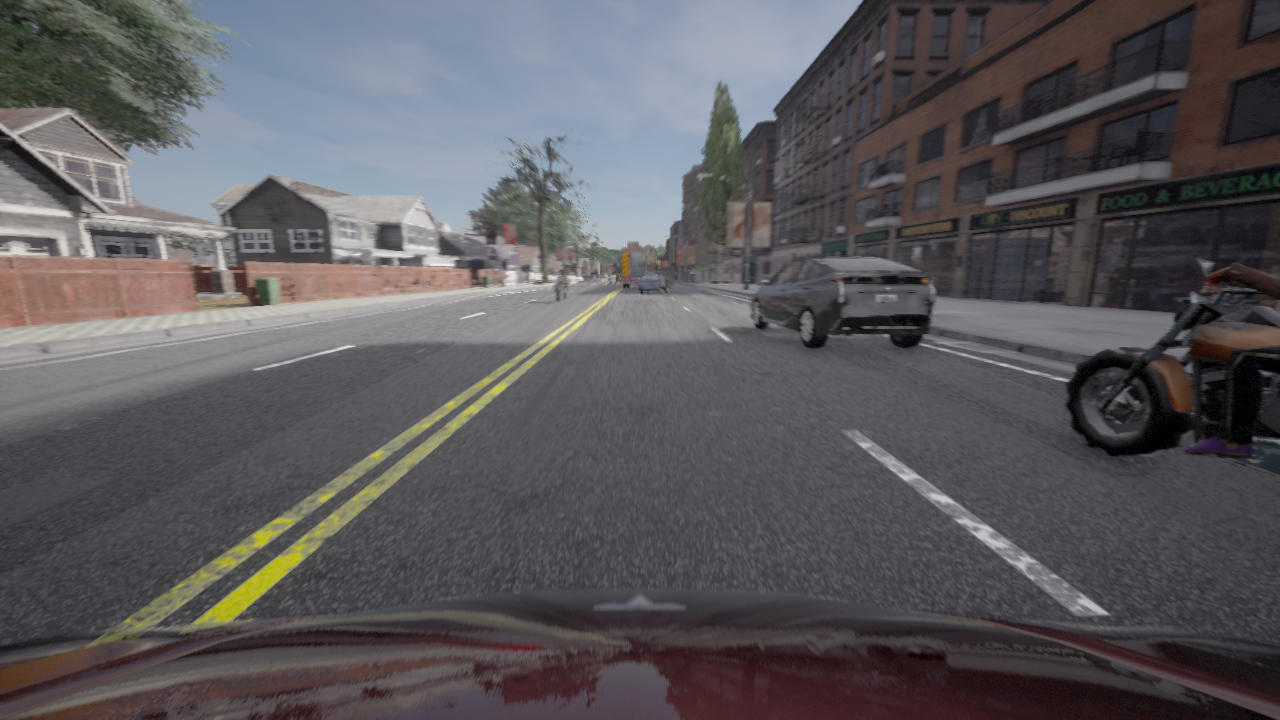cyclist: (0, 588, 1279, 719), (1066, 259, 1279, 474), (751, 256, 934, 348), (621, 247, 655, 281), (639, 271, 673, 292), (558, 276, 561, 279)
